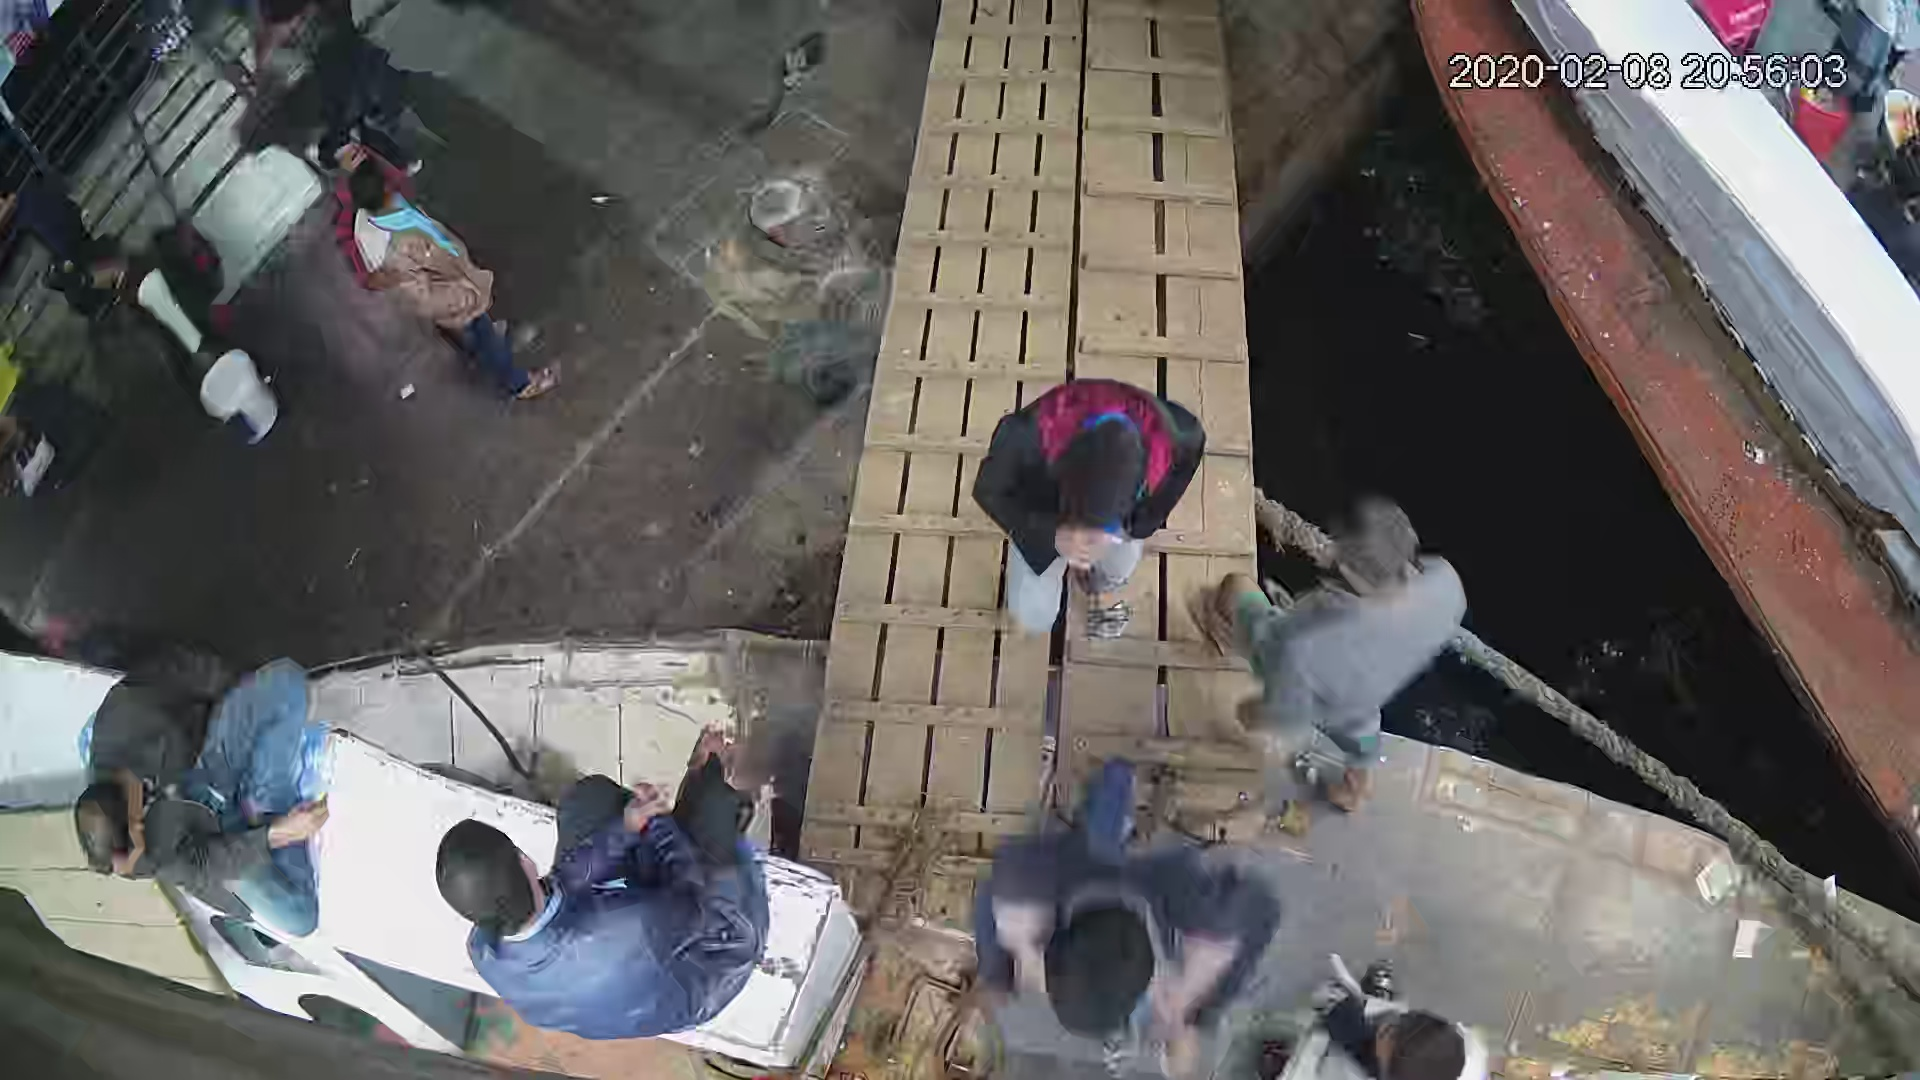person: (430, 717, 773, 1045), (955, 752, 1286, 1059), (1196, 486, 1472, 817), (68, 631, 329, 943), (971, 371, 1208, 660), (345, 157, 567, 411), (91, 231, 276, 443), (1263, 963, 1493, 1080)
